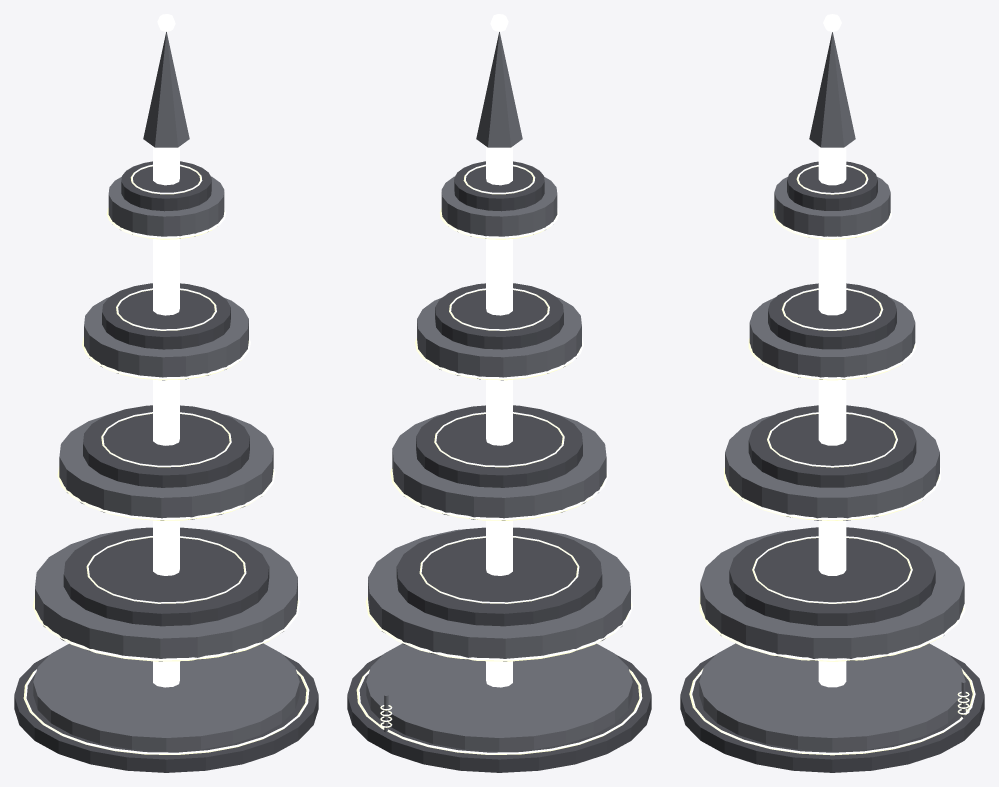
Rendered from zone_high_2_t4.glb.
3 renders of one model, left to right at view 1: azimuth 30°, elevation 25°; view 2: azimuth 150°, elevation 25°; view 3: azimuth 270°, elevation 25°, orthographic.
Parts seen in each view (by area): view 1: zone_high_2_t4, detail; view 2: zone_high_2_t4, detail; view 3: zone_high_2_t4, detail.
Boxes of the visible parts, <box> form: zone_high_2_t4: <box>14,14,318,772</box>; detail: <box>86,164,246,603</box>; zone_high_2_t4: <box>347,14,651,772</box>; detail: <box>380,164,579,732</box>; zone_high_2_t4: <box>680,14,984,772</box>; detail: <box>752,165,969,719</box>.
Bounding box in the file's own units: 28.8 × 72.43 × 28.8.
